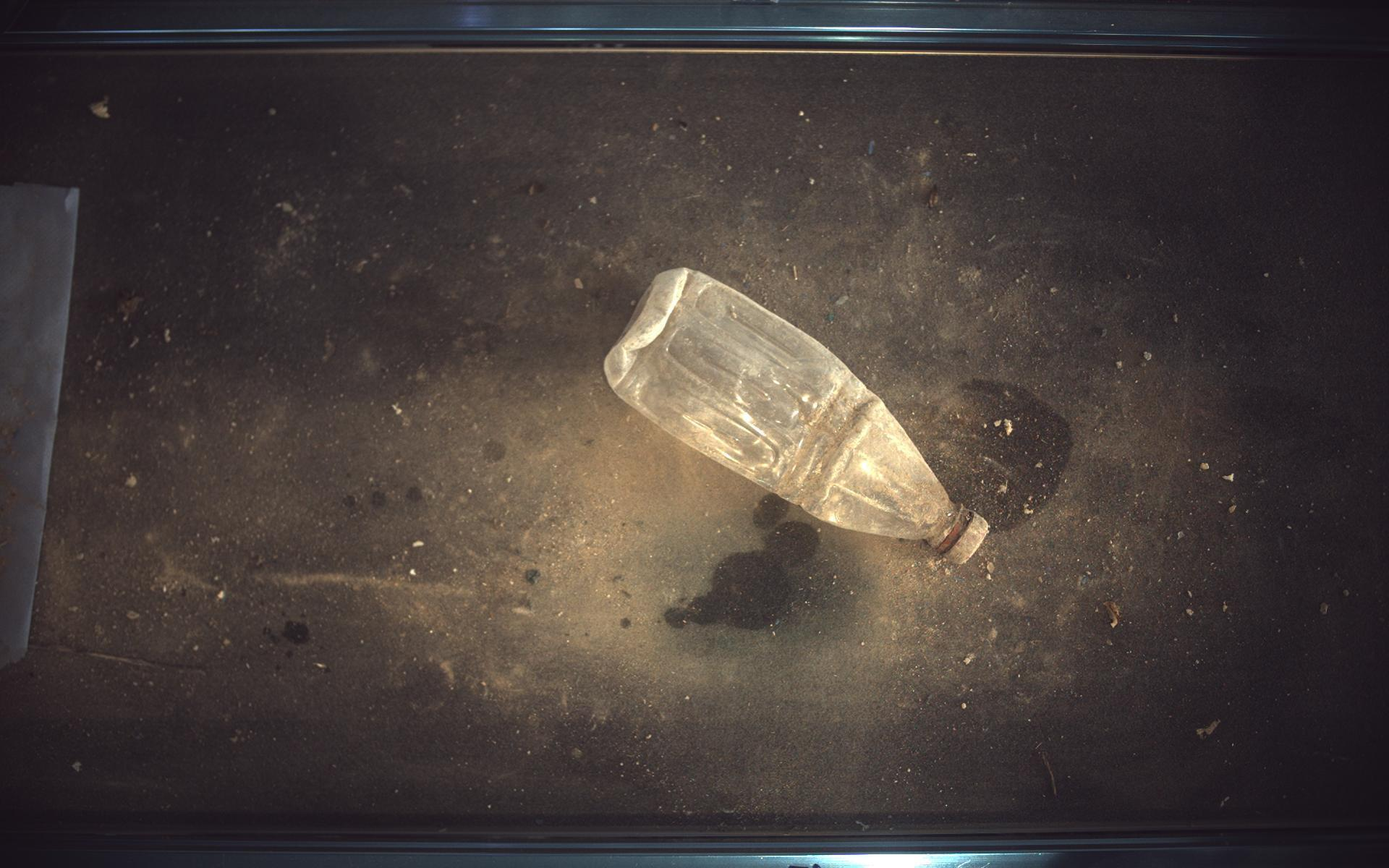general_w: (605, 268, 991, 566)
